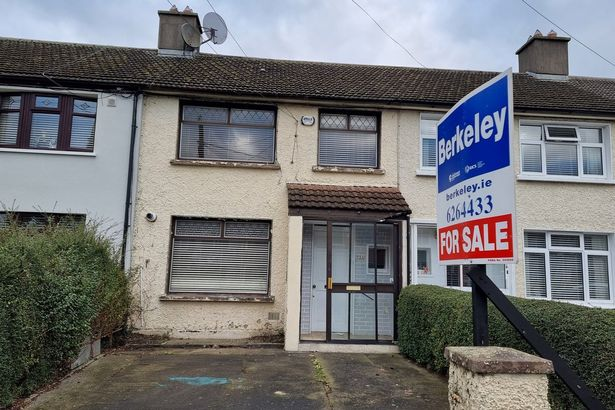property sign: (409, 58, 528, 279)
